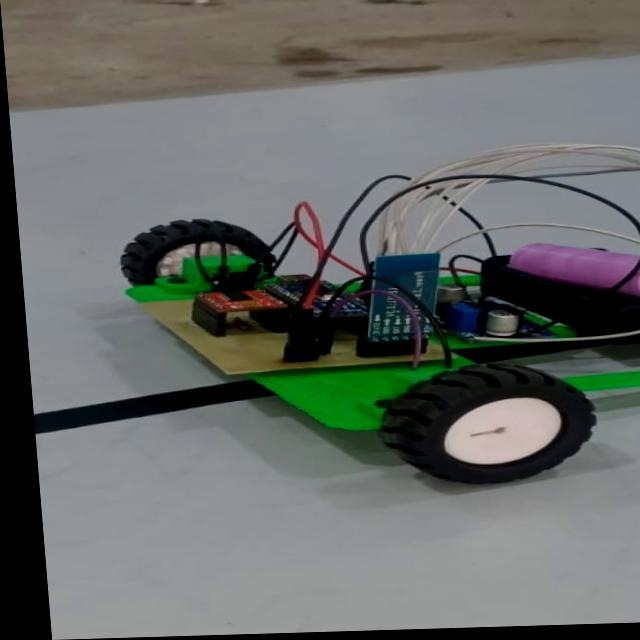vehicle: (105, 138, 640, 490)
